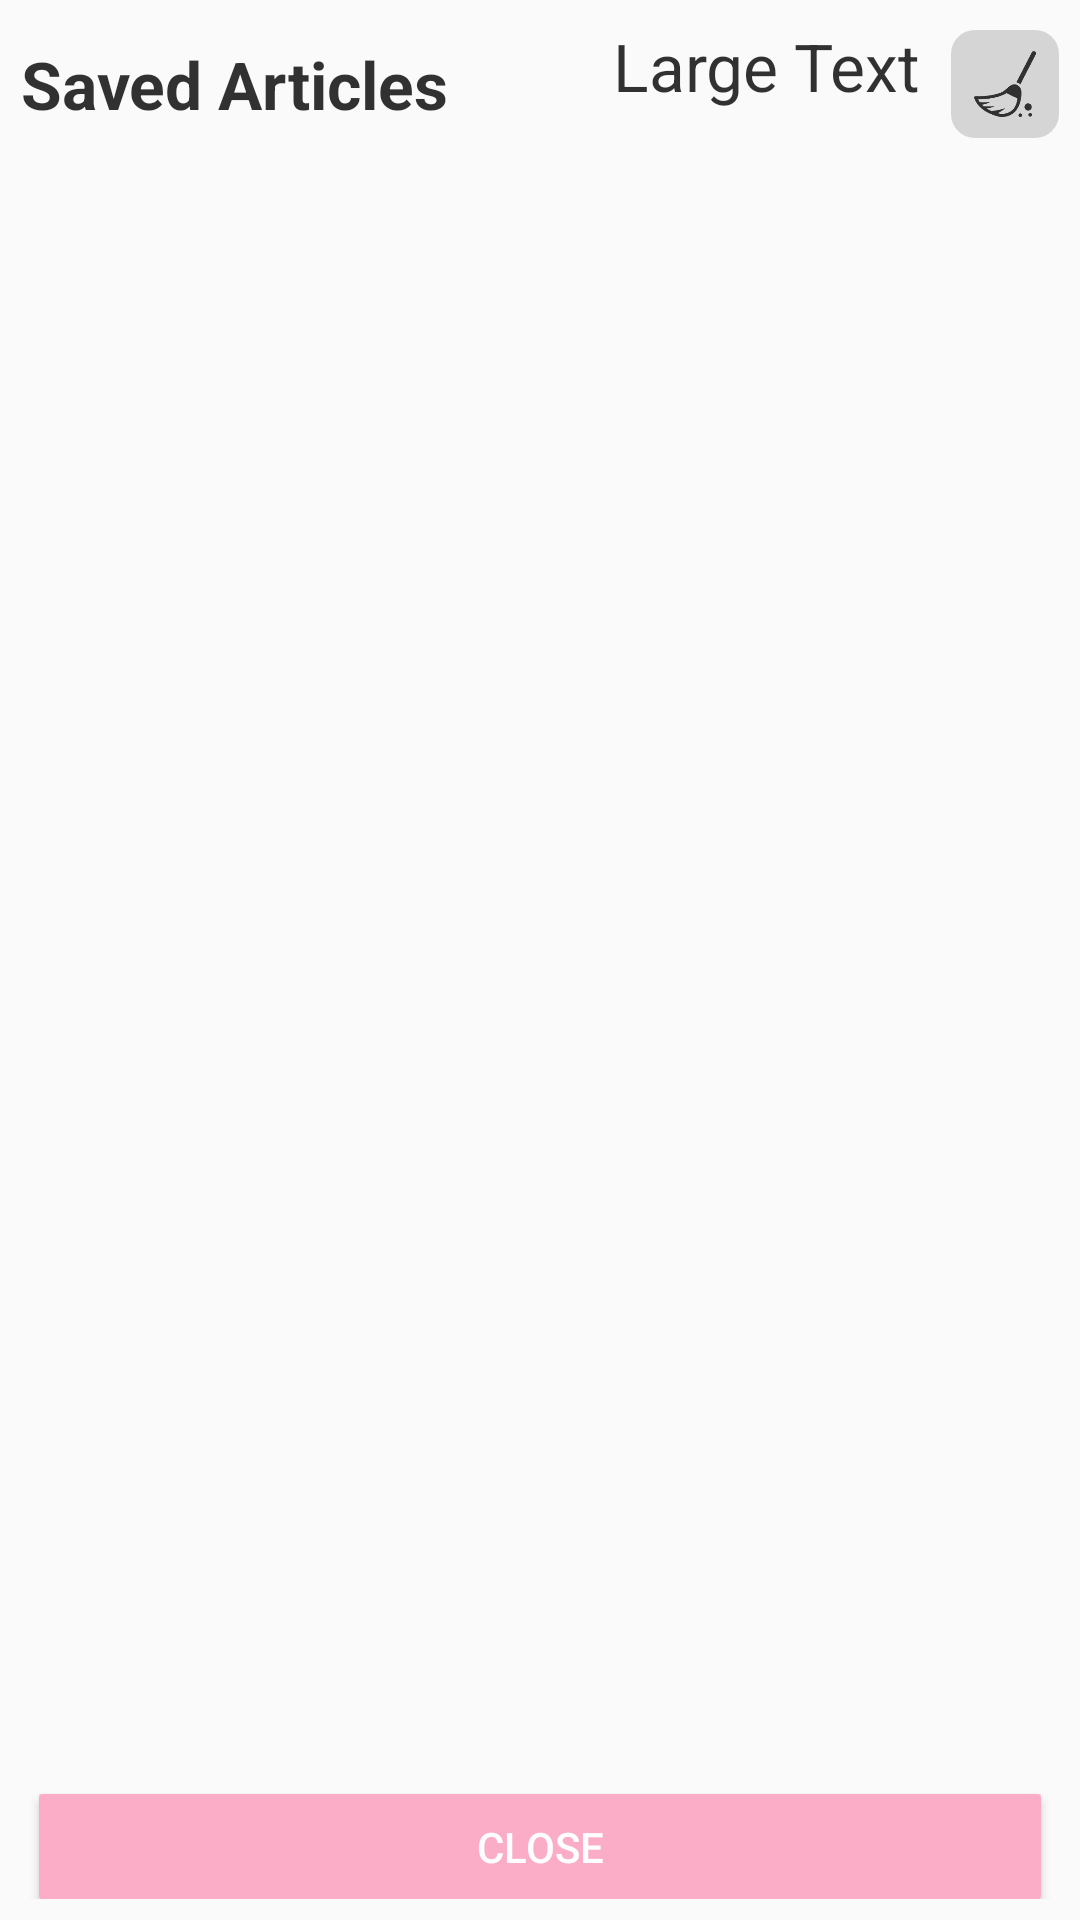

Screen size 1080px×1920px. Icon name, then its center in pixels as (x=x, y=y):
delete all: (x=1005, y=84)
